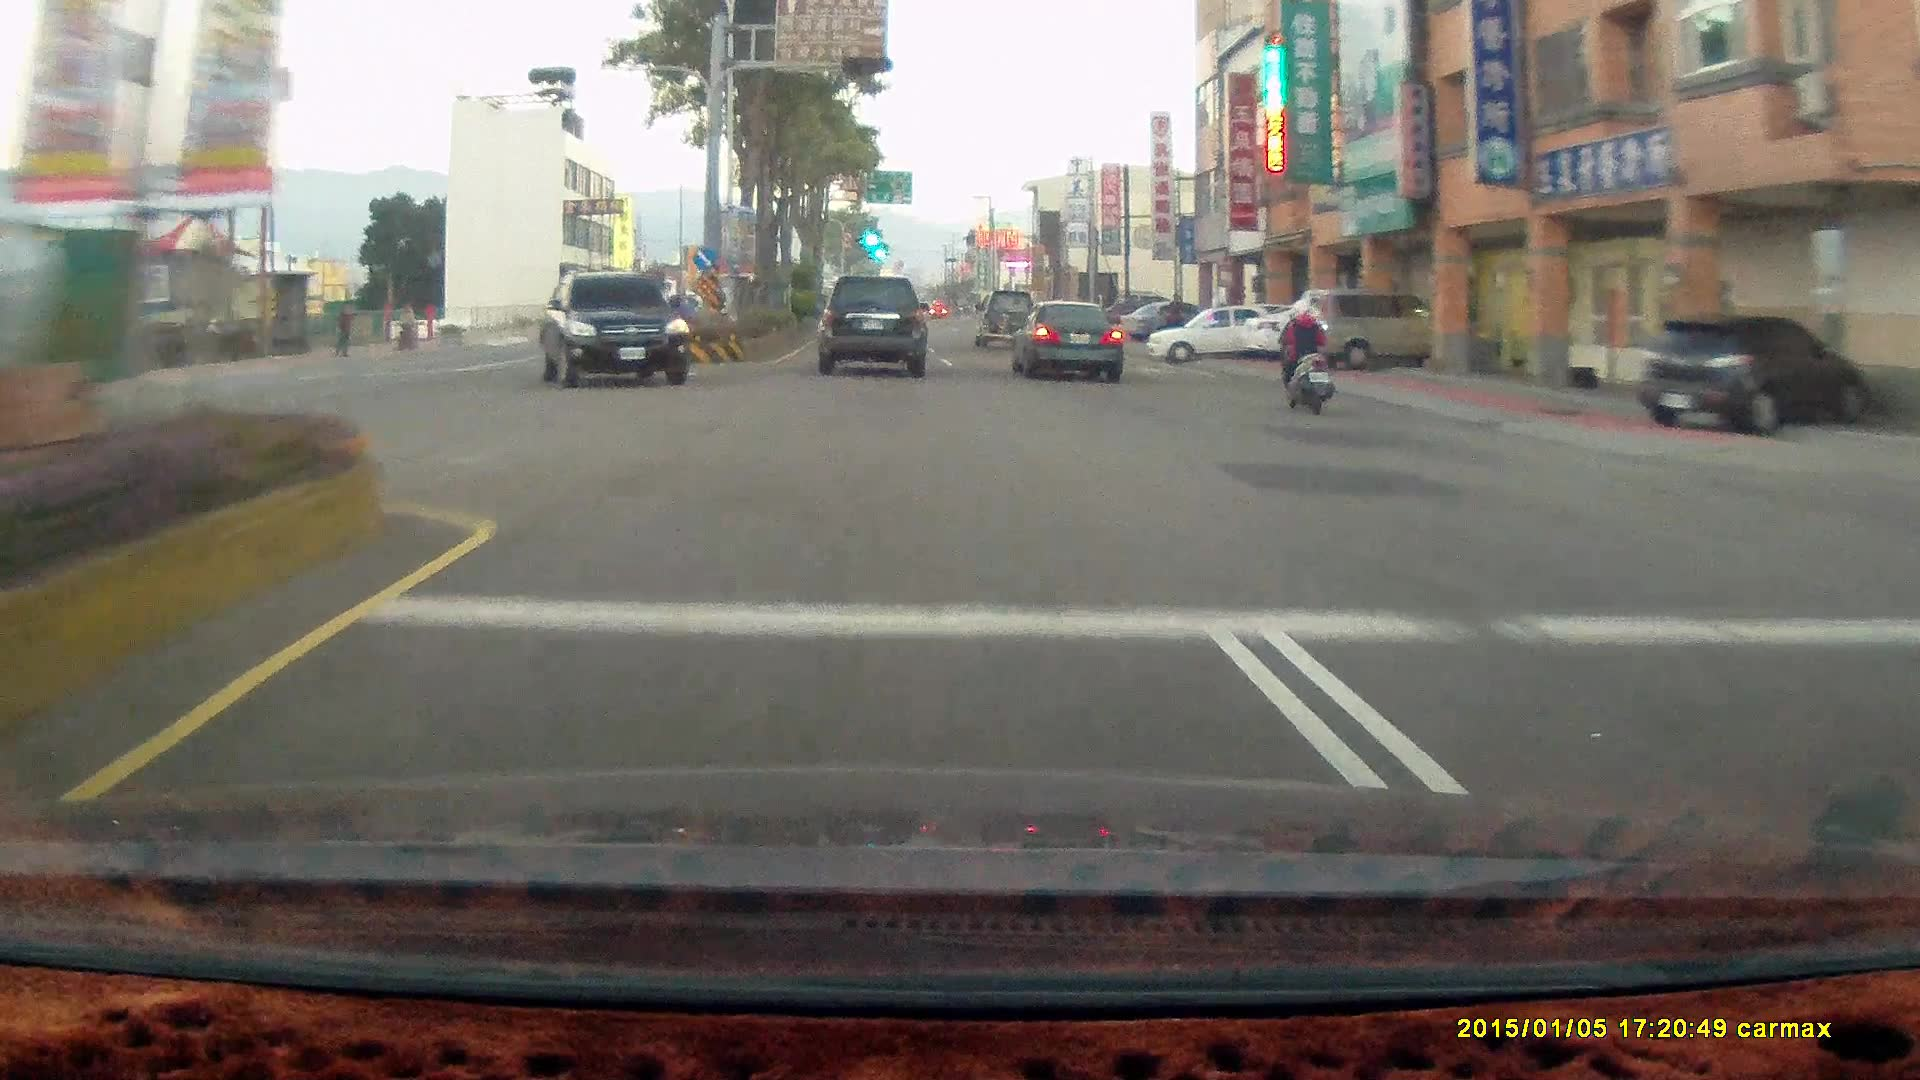pedestrian: (330, 307, 353, 358), (1165, 291, 1186, 347)
rider: (1264, 290, 1345, 418), (1272, 298, 1334, 414)
vehicle: (1640, 319, 1874, 434), (1640, 320, 1867, 431), (537, 276, 691, 392), (537, 269, 688, 386), (1290, 288, 1468, 368), (1285, 294, 1441, 375), (823, 275, 933, 378), (816, 276, 926, 378), (1242, 297, 1400, 366), (1008, 302, 1131, 385), (1007, 297, 1121, 380), (1152, 304, 1294, 371), (1144, 304, 1286, 363), (972, 289, 1040, 348), (1122, 301, 1212, 341)
